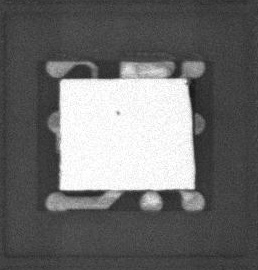DIE_INK: (184, 78, 197, 191), (114, 110, 122, 118)
